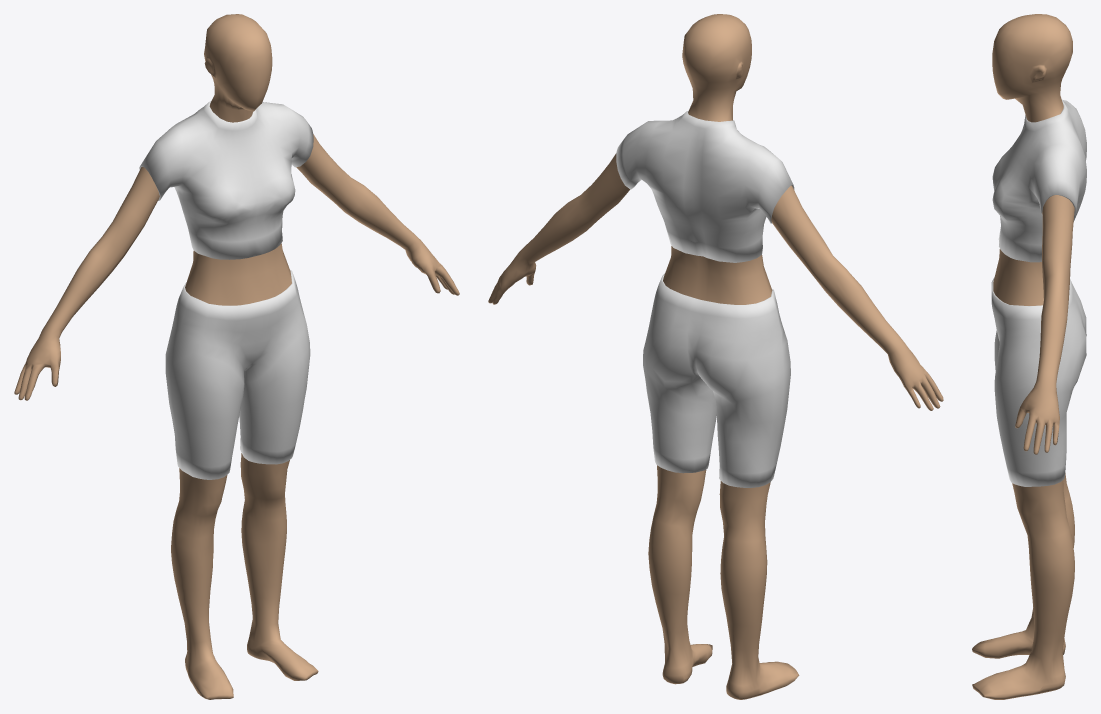
Rendered from Female_Base.fbx.
The picture shows the model from 3 angles, left to right: view 1: azimuth 30°, elevation 25°; view 2: azimuth 150°, elevation 25°; view 3: azimuth 270°, elevation 25°; orthographic projection. The views are drawn at different scales.
Visible parts, largest first — view 1: Female_Base; view 2: Female_Base; view 3: Female_Base.
Part boxes in pixels (x1,y1,x2,y2): Female_Base: (14,14,459,699); Female_Base: (488,14,943,699); Female_Base: (972,14,1086,699).
Bounding box in the file's own units: 126 × 180 × 28.41.
